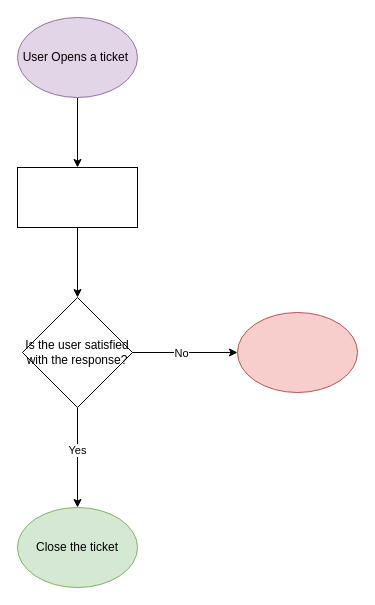
Image size: 375x605. Some labels were removed from this diagram. Each missing label, with the centre of its shape:
AWS Lex reads the ticket and comes up with a response: pixel 77 197
Connect the user with a human: pixel 297 352
